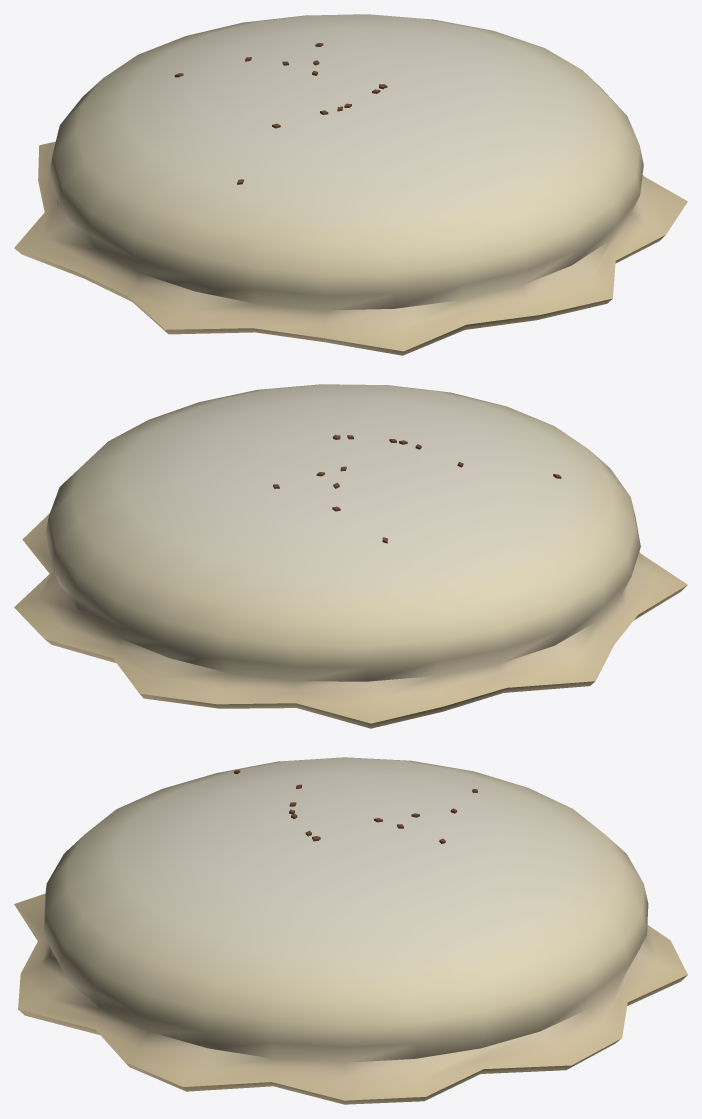
File: scoop_vanilla.glb
3 views of the same model, one above another, from view 1: azimuth 30°, elevation 25°; view 2: azimuth 150°, elevation 25°; view 3: azimuth 270°, elevation 25° (orthographic). The views are drawn at different scales.
Visible parts, largest first — view 1: body; view 2: body; view 3: body.
Part boxes in pixels (left/top/right/bottom): body: left=14, top=14, right=687, bottom=355; body: left=14, top=384, right=687, bottom=728; body: left=14, top=757, right=687, bottom=1104.
Size of the model in its own units: 0.9226 by 0.22 by 0.9074.
